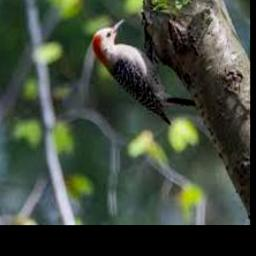Woodpecker: (93, 16, 197, 124)
